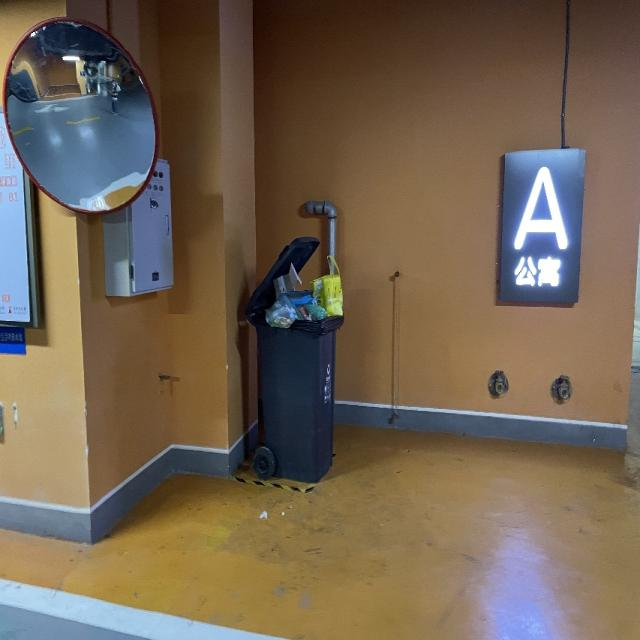overflow: (244, 235, 342, 482)
